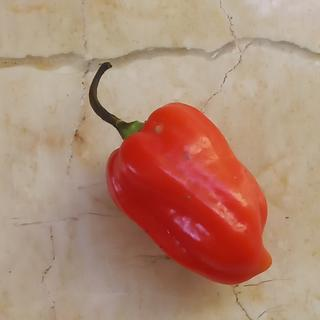Grade-A: (97, 92, 277, 290)
